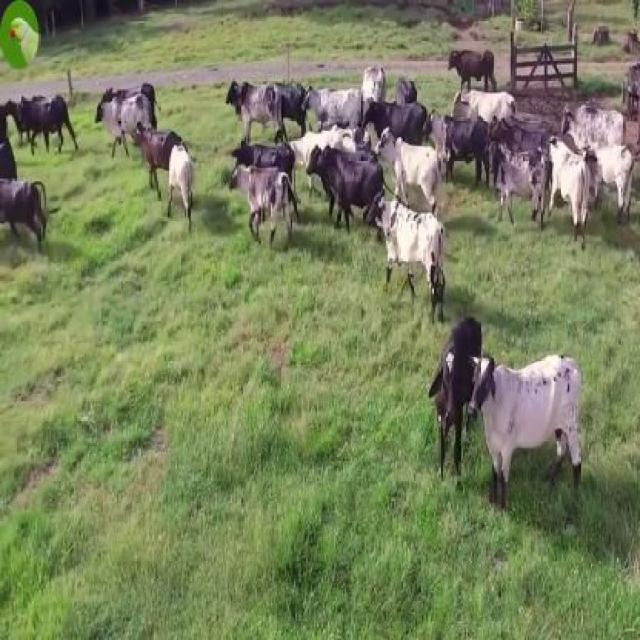Cow: (472, 351, 583, 506), (376, 198, 444, 318), (231, 166, 298, 254), (95, 92, 151, 160)
